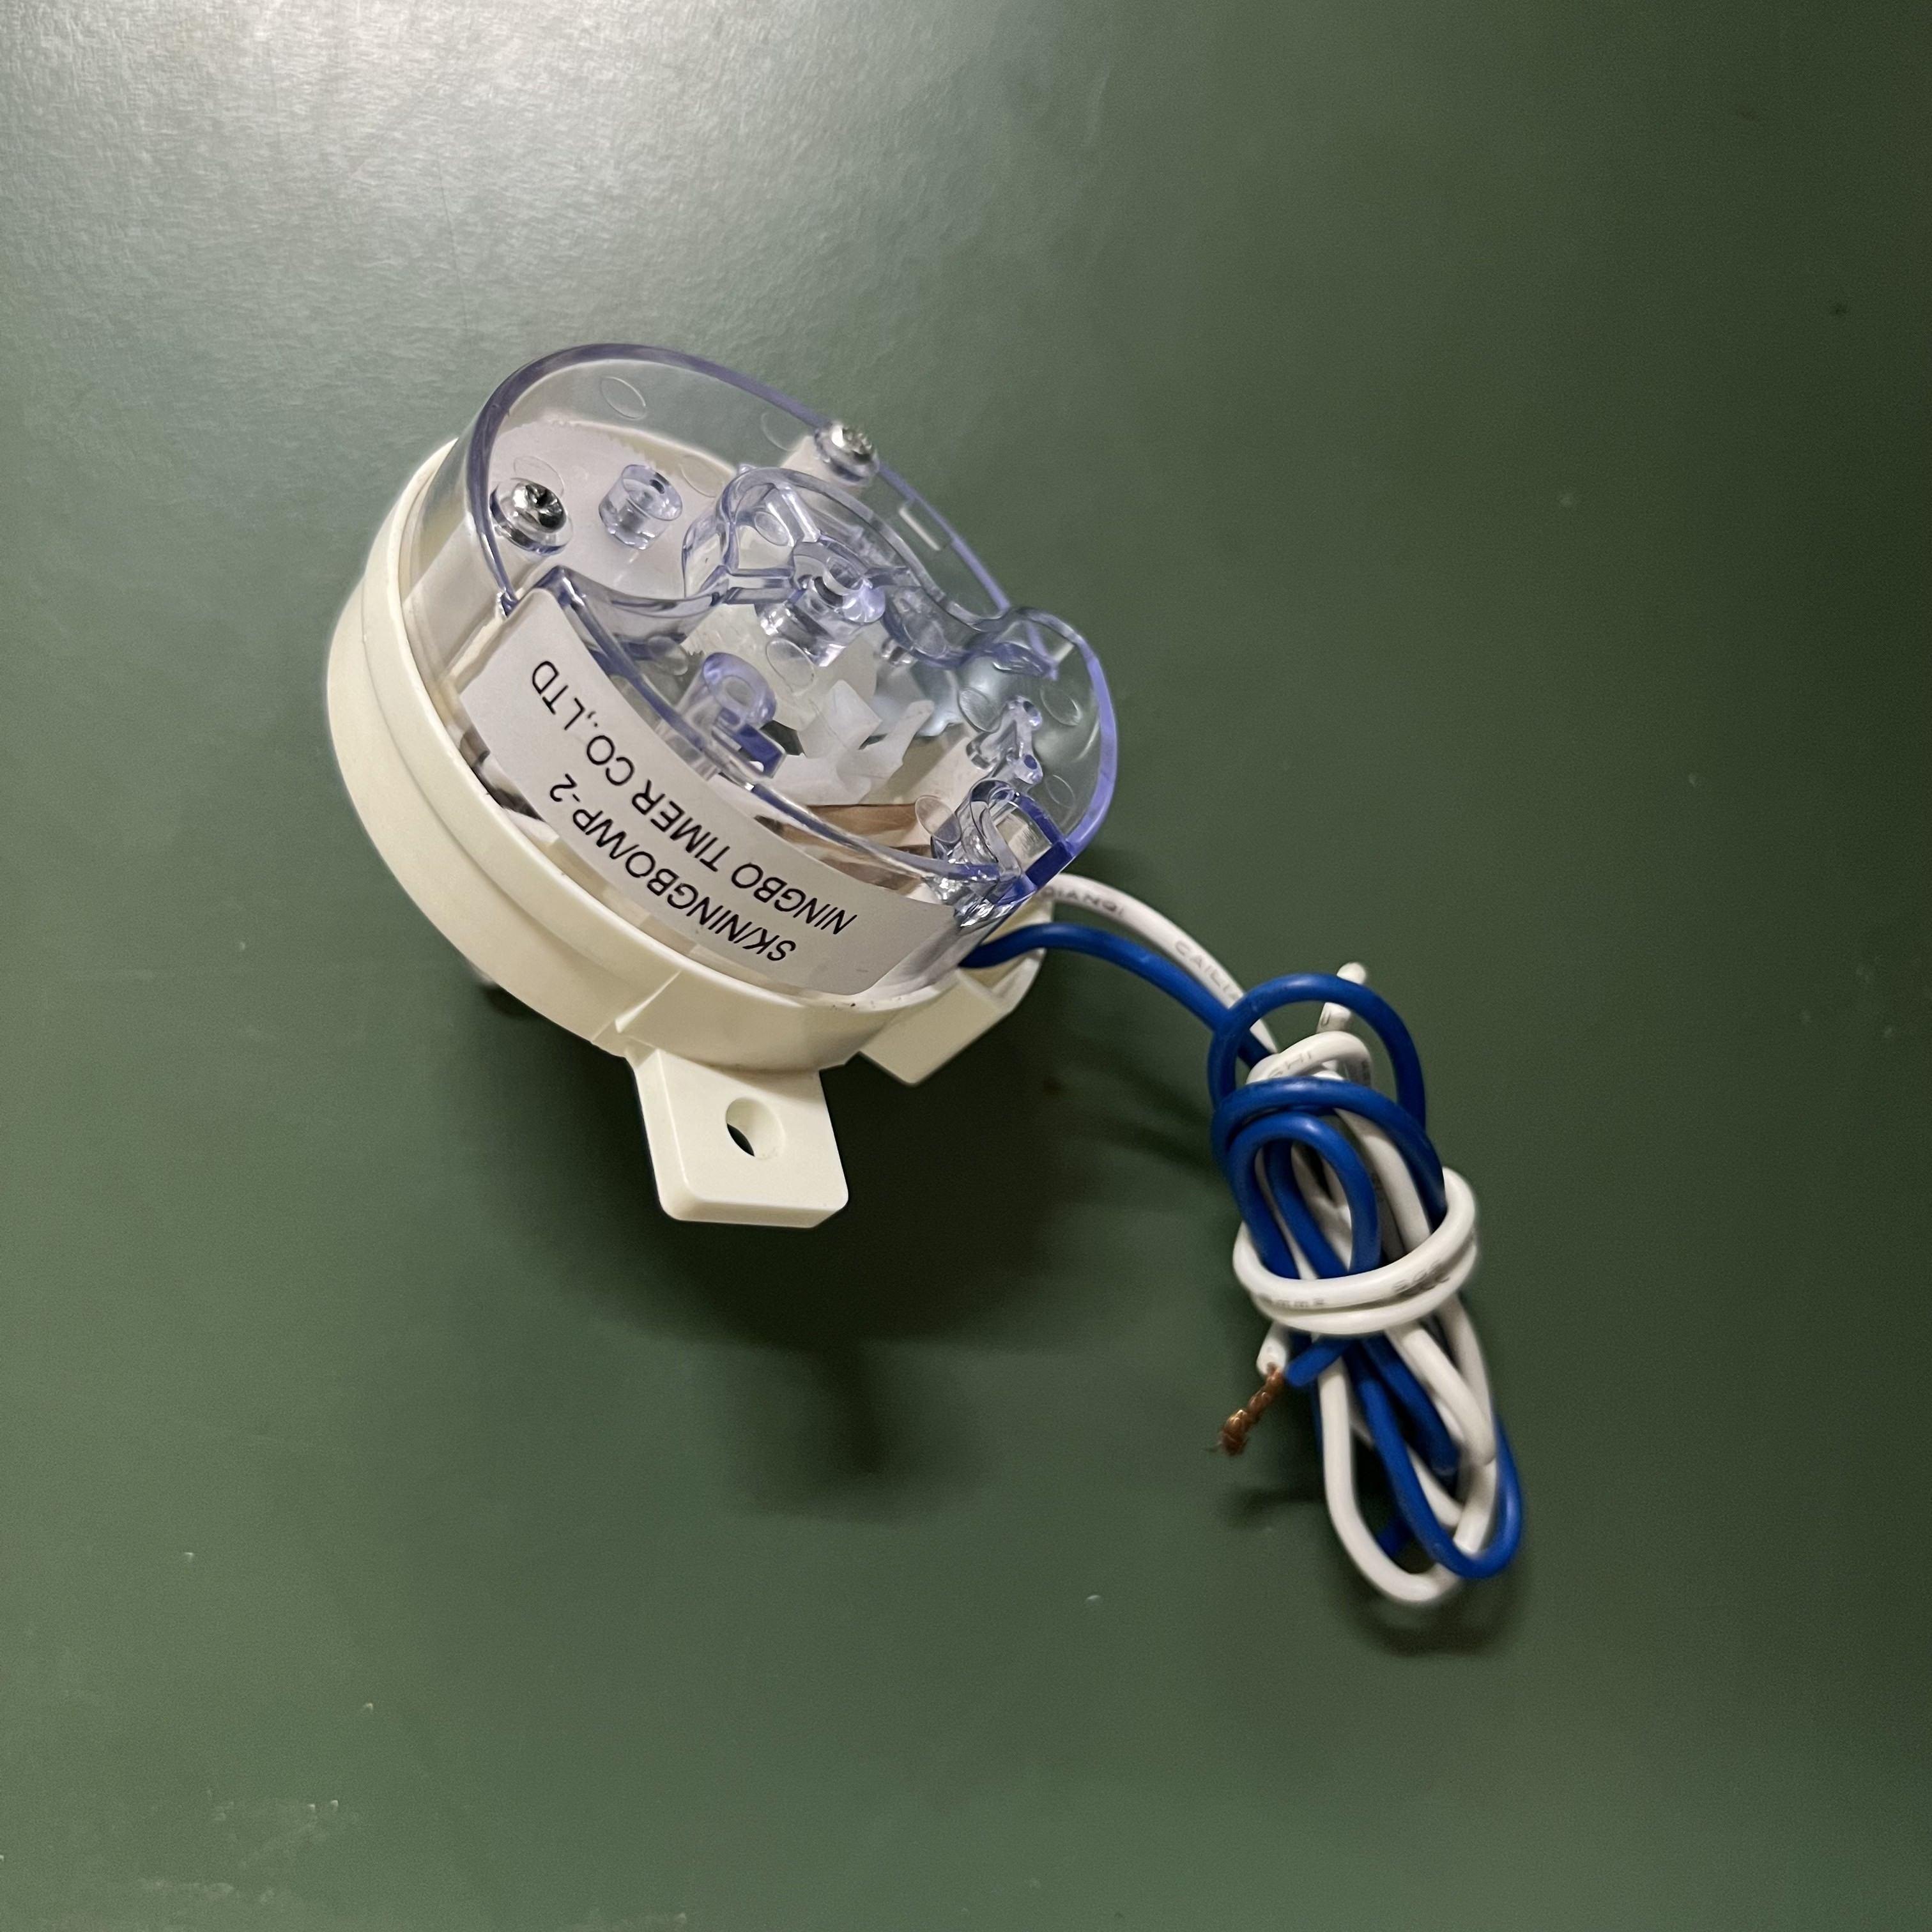circle_timer: (331, 342, 1151, 1230)
